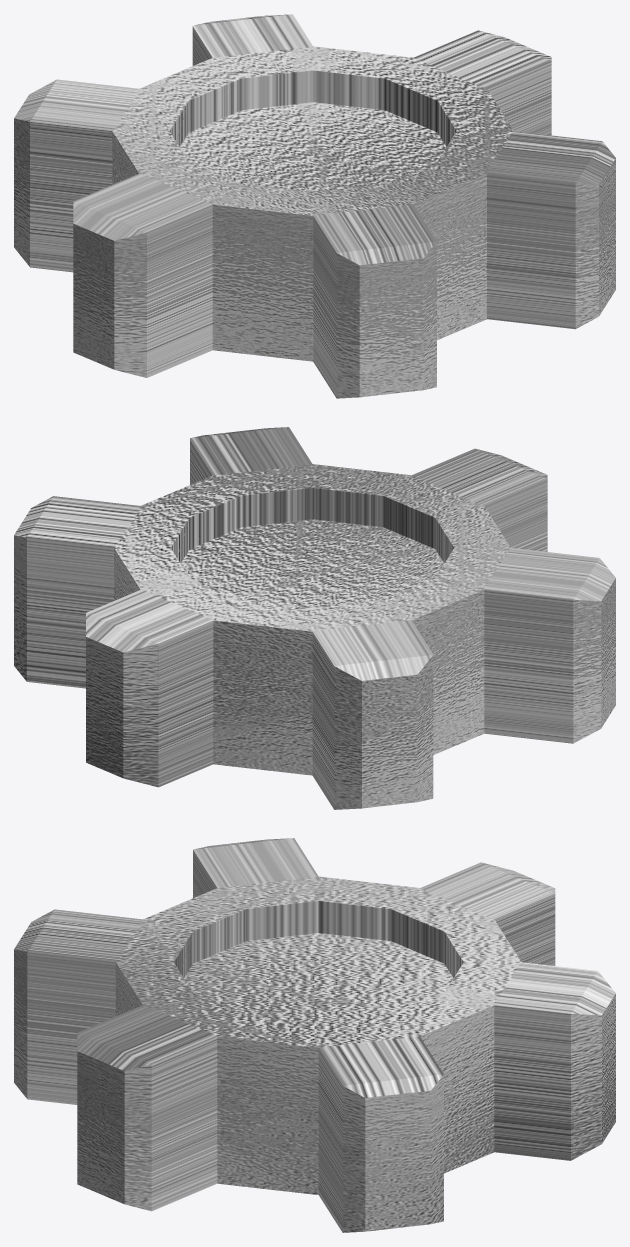
File: GearCollectible.fbx
3 views of the same model, one above another, from view 1: azimuth 30°, elevation 25°; view 2: azimuth 150°, elevation 25°; view 3: azimuth 270°, elevation 25° (orthographic). The views are drawn at different scales.
Parts seen in each view (by area): view 1: Cylinder; view 2: Cylinder; view 3: Cylinder.
Part boxes in pixels (x1,y1,x2,y2): Cylinder: (14,14,615,398); Cylinder: (14,427,615,809); Cylinder: (14,838,615,1232).
Size of the model in its own units: 152 by 40 by 148.
Materials: 1 (1 with a texture image).
